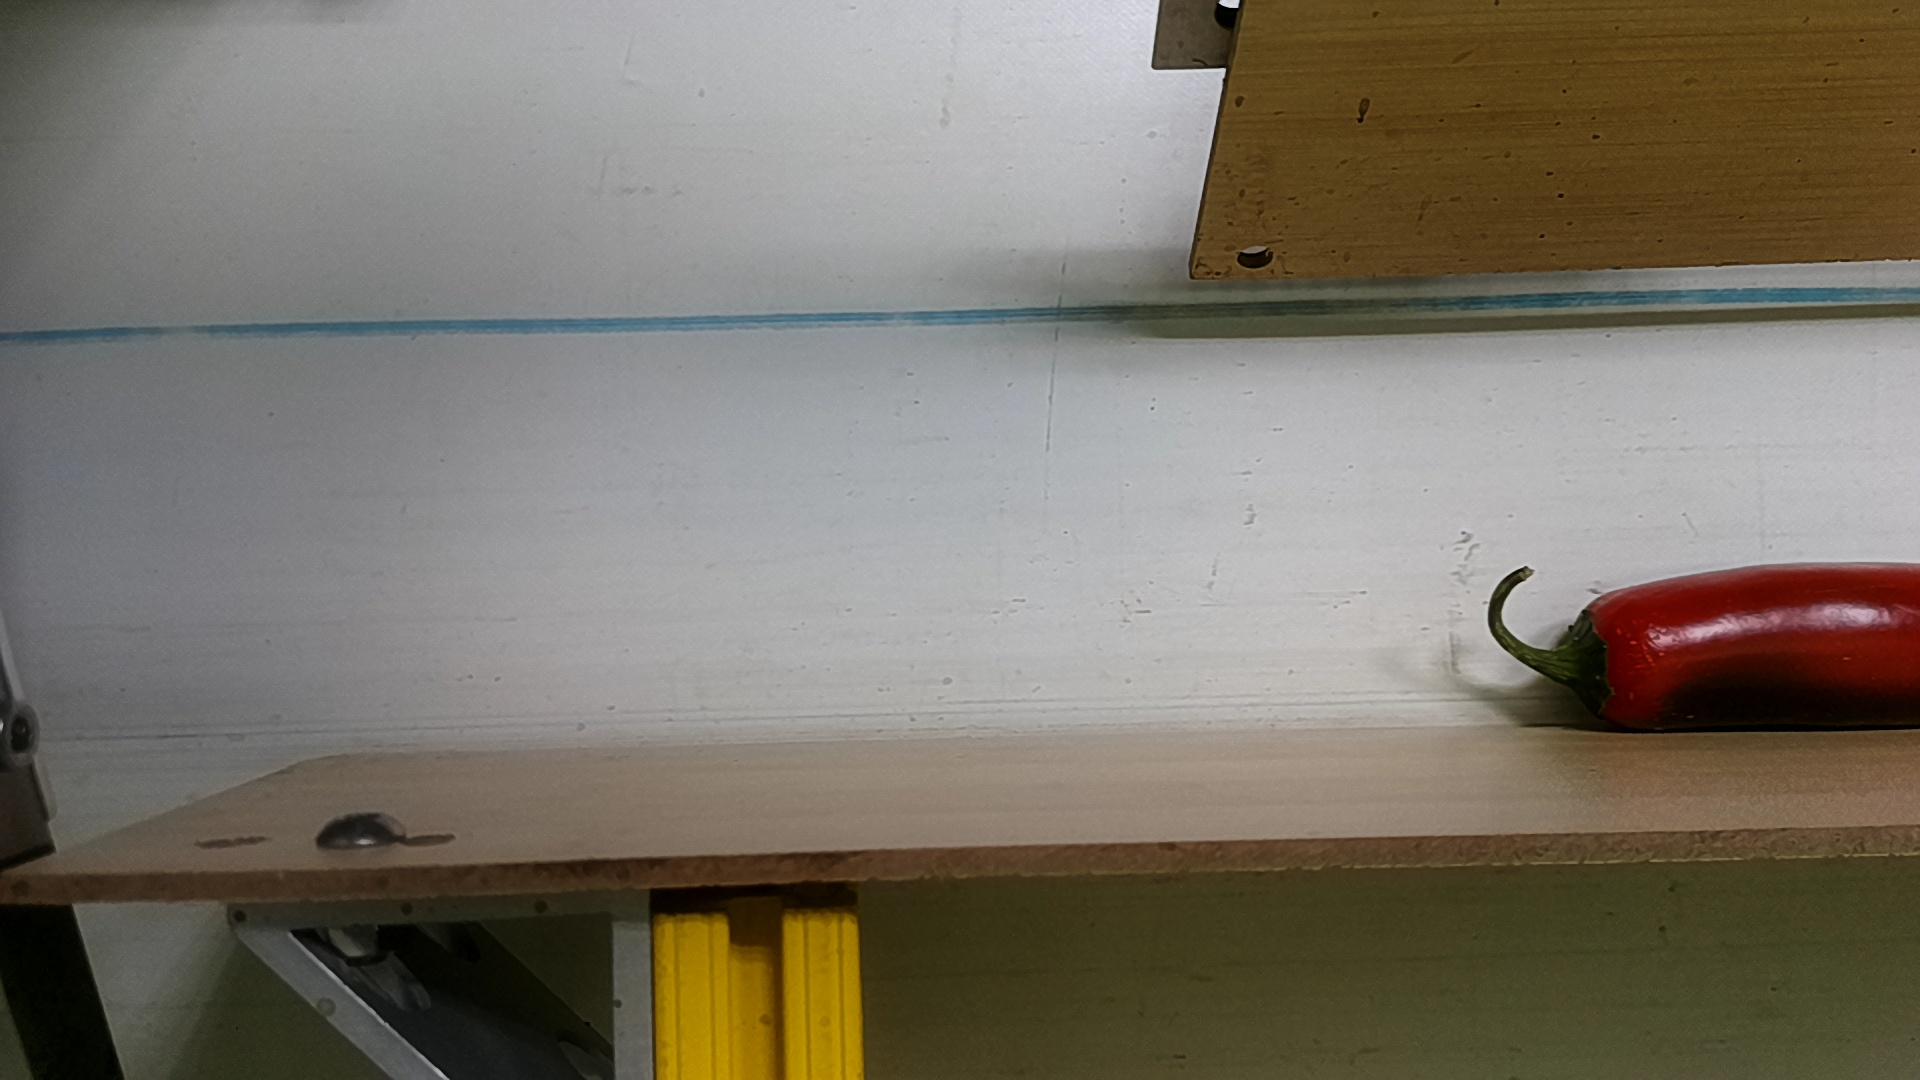Cut Point: (1552, 579, 1647, 738)
